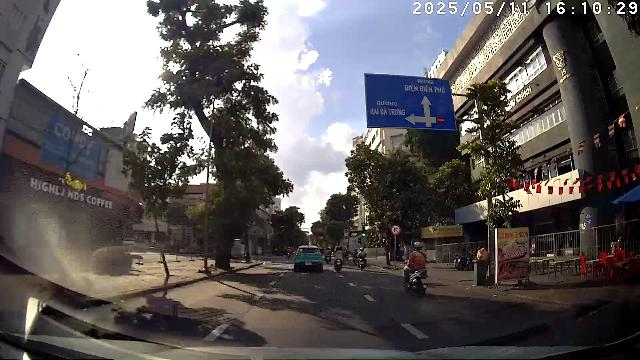123b-cam-re-phai: (391, 225, 401, 235)
